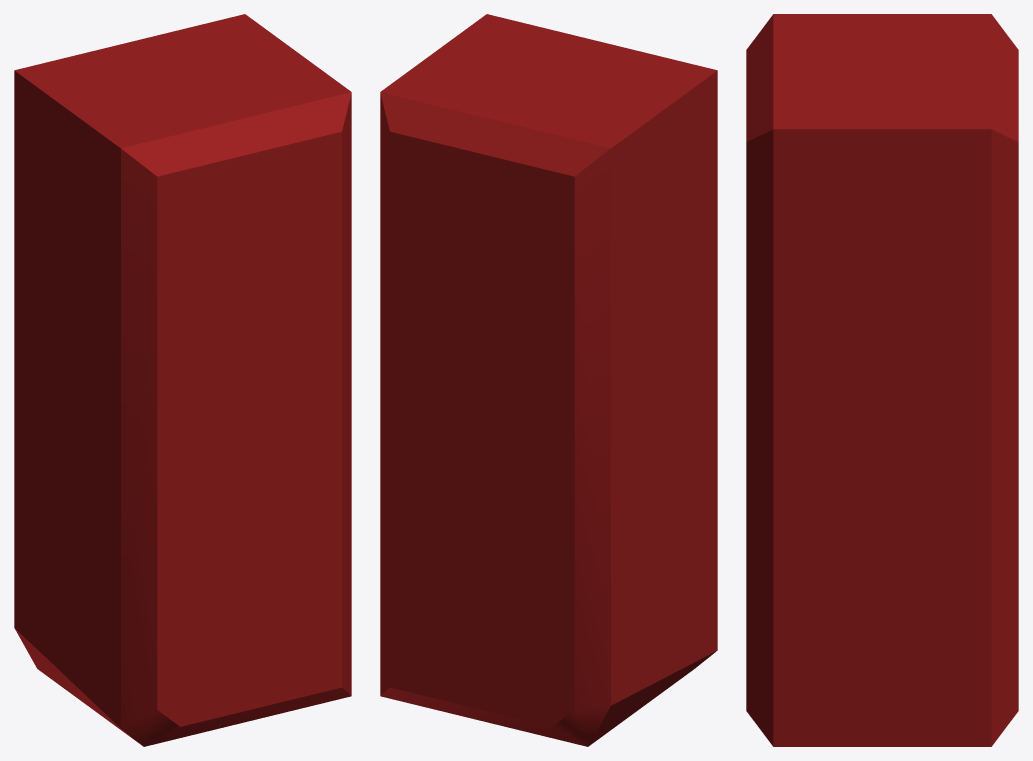
The model's file is SM_Wall_50x20.FBX.
3 views of the same model, side by side, from view 1: azimuth 30°, elevation 25°; view 2: azimuth 150°, elevation 25°; view 3: azimuth 270°, elevation 25° (orthographic). The views are drawn at different scales.
Parts seen in each view (by area): view 1: Wall_50x20; view 2: Wall_50x20; view 3: Wall_50x20.
Boxes of the visible parts, left/top/right/bottom form: Wall_50x20: left=14, top=14, right=351, bottom=746; Wall_50x20: left=380, top=14, right=717, bottom=746; Wall_50x20: left=746, top=14, right=1018, bottom=746.
Size of the model in its own units: 20 by 20 by 50.
